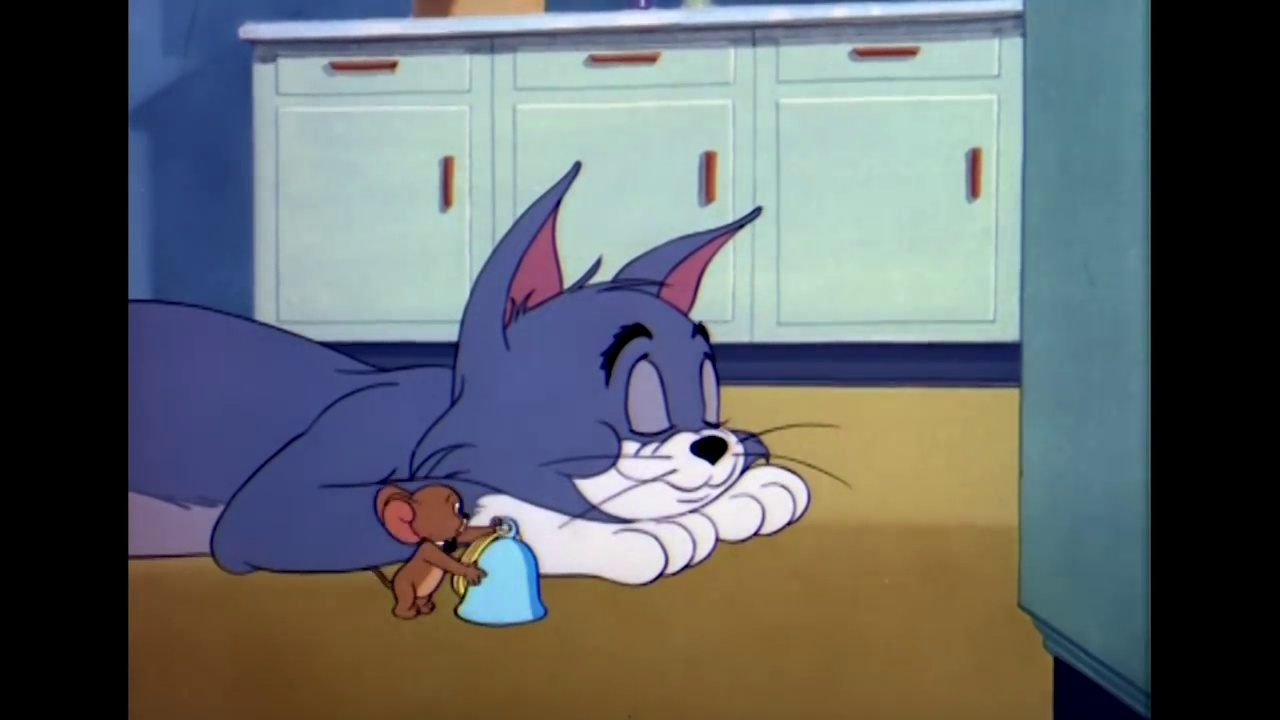tom: (406, 158, 757, 524)
